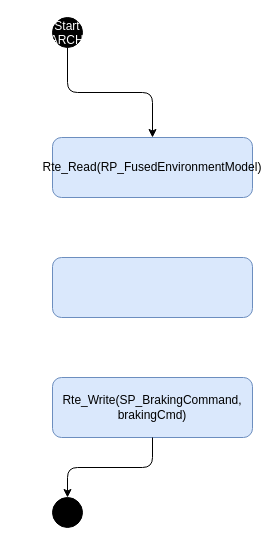
The diagram is 280 pixels wide and 545 high, and some of its shapes have lost their labels. Each missing label, with the centre of its shape:
"End [REQ-ARCH-0100]" belongs at point (67, 512).
"Rte_Write(SP_SteeringCommand, steeringCmd)" belongs at point (152, 287).
